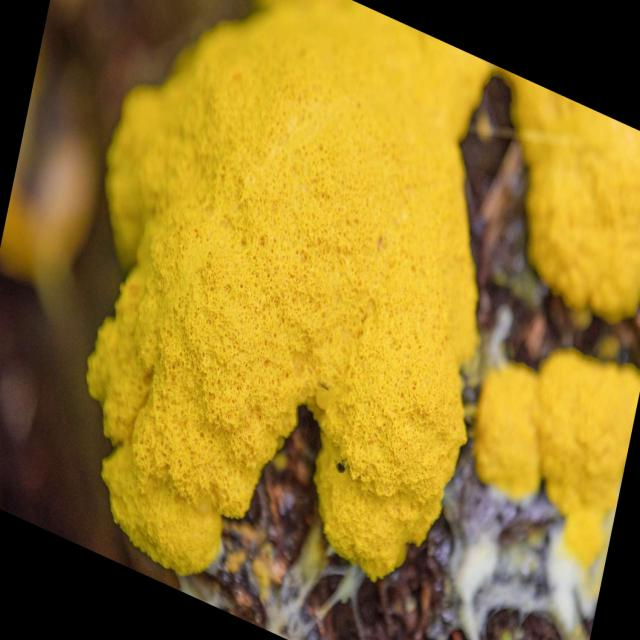Dog_vomit_slime_mold: (70, 4, 640, 640)
